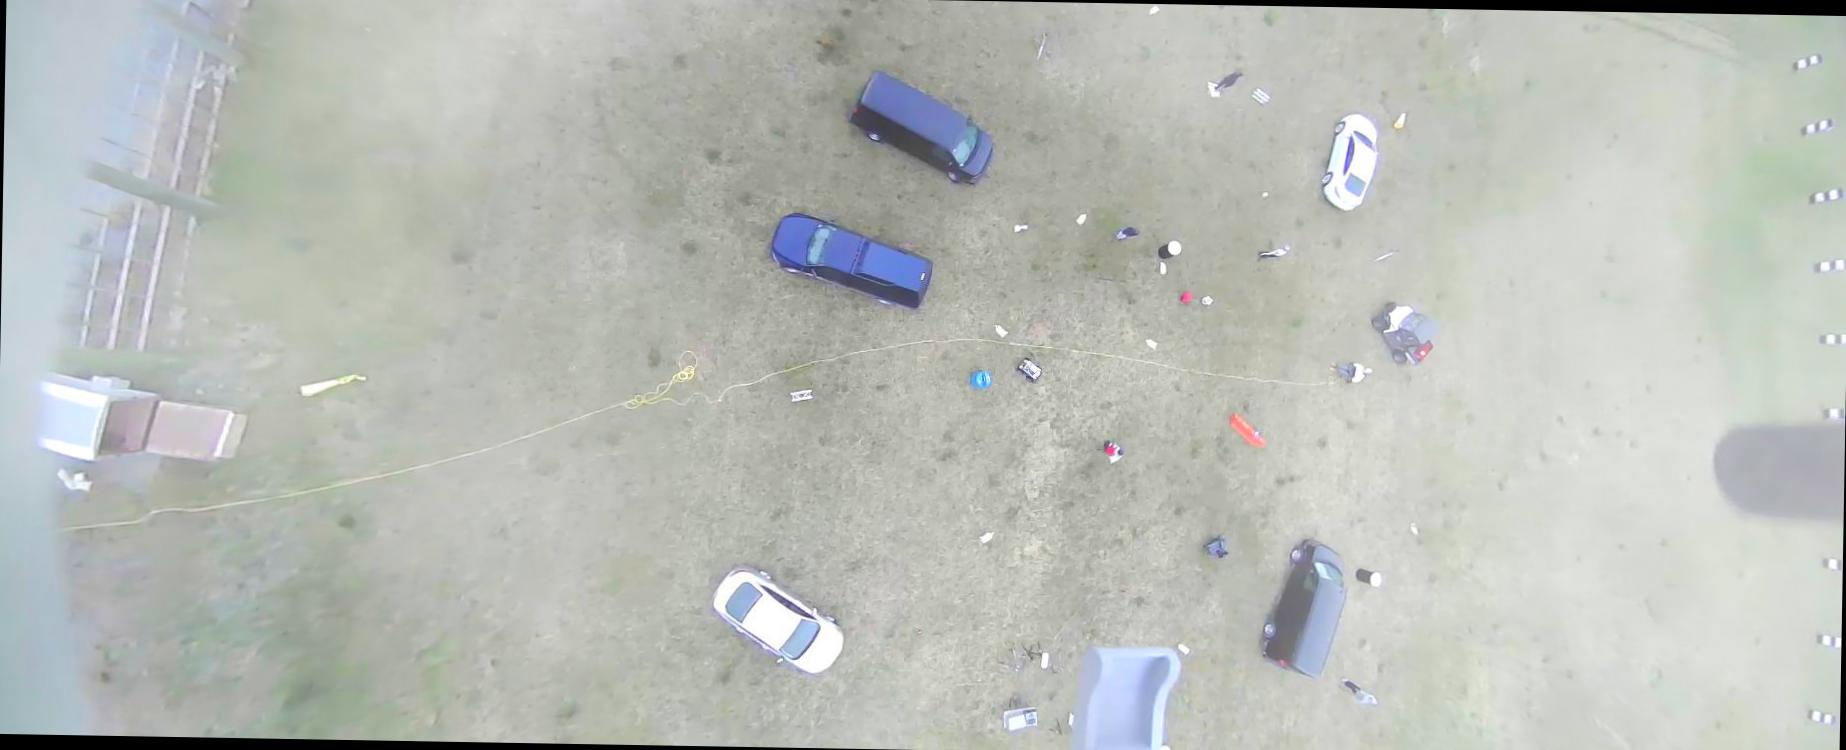vehicle: (846, 70, 996, 186), (769, 212, 934, 310), (710, 564, 846, 676), (1260, 538, 1347, 679), (1320, 112, 1380, 213), (1370, 301, 1439, 367)
